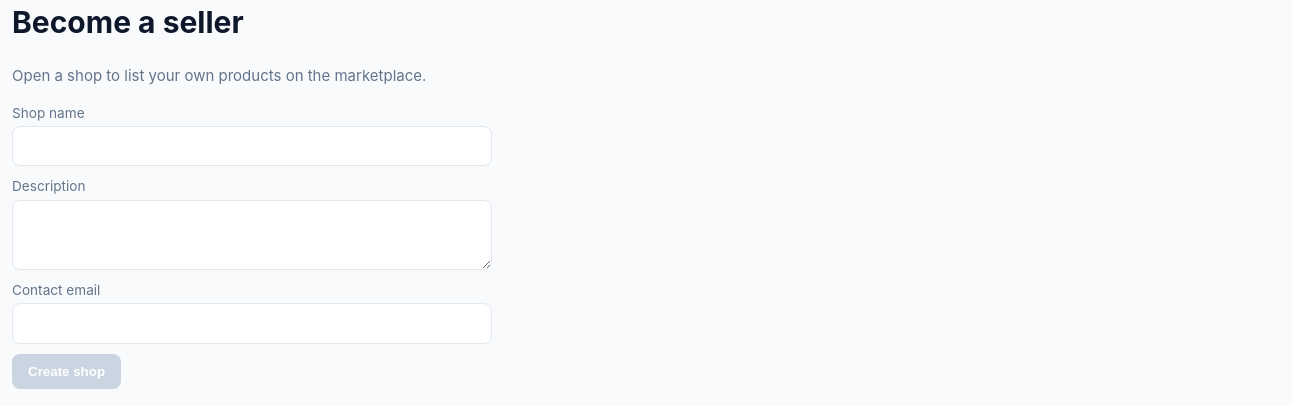
Test: SellerDashboard › creates a shop from the onboarding form and switches to the shop card
Expected: the heading "Become a seller" is shown, [12,4,244,40]
Type "Trailhead Goods" into the field labelled "Shop name". click: (252, 146)
box: [12,126,492,166]
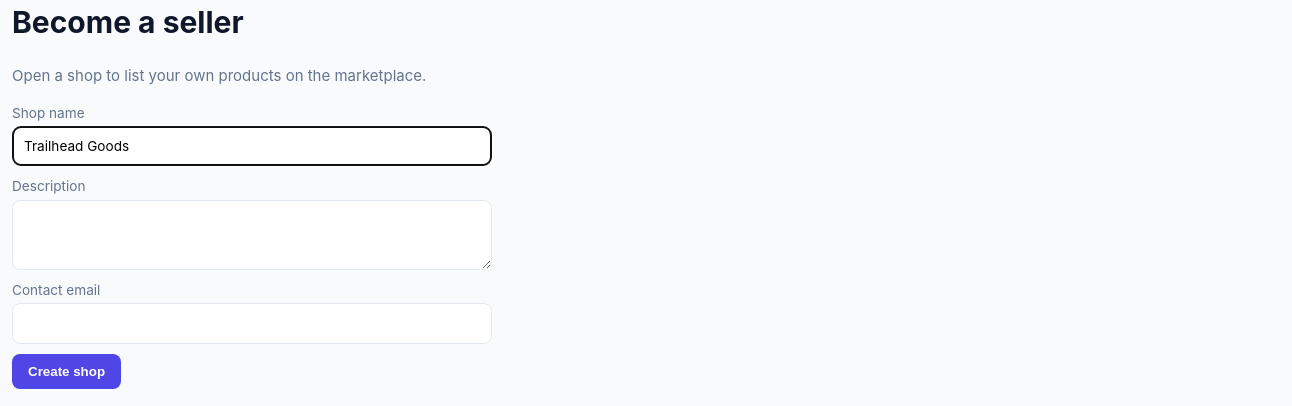
Type "hi@trailhead.example" into the field labelled "Contact email". click: (252, 323)
box: [12,303,492,344]
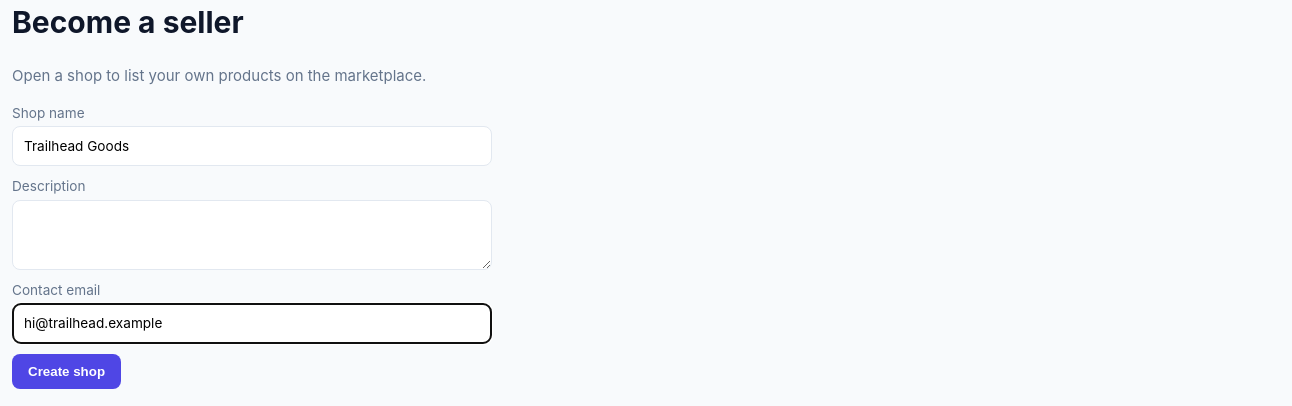
Click the button "Create shop". click: (66, 371)
box: [12,354,121,388]
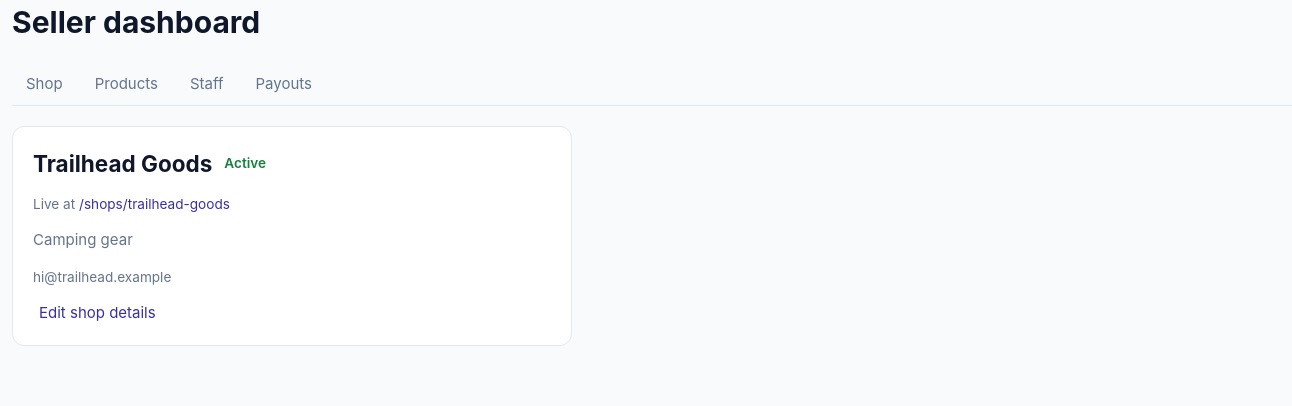
Expected: the heading "Trailhead Goods" is shown, [33,147,212,180]
